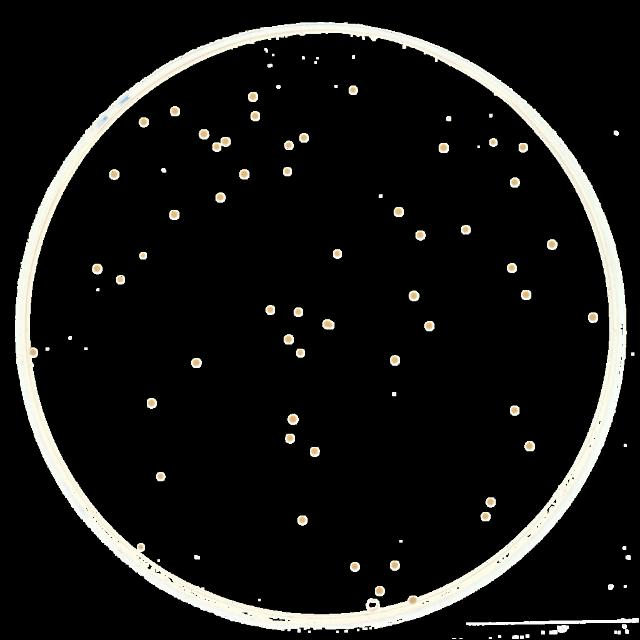colony: (298, 132, 310, 144), (324, 318, 336, 330), (394, 207, 406, 219), (288, 414, 300, 426), (524, 441, 536, 452), (147, 396, 157, 409), (169, 208, 179, 220), (239, 168, 249, 180), (140, 118, 152, 128), (333, 249, 345, 259), (411, 292, 421, 304), (507, 262, 517, 274), (522, 289, 532, 301), (588, 312, 598, 324), (486, 496, 496, 508), (350, 562, 362, 572), (426, 319, 434, 333), (250, 111, 260, 122), (310, 447, 320, 458), (110, 170, 120, 180), (200, 130, 210, 140), (192, 358, 202, 368), (390, 354, 400, 364), (248, 90, 258, 100), (510, 178, 520, 188), (547, 240, 557, 250), (510, 406, 520, 416), (480, 511, 490, 521), (390, 560, 400, 570), (298, 515, 308, 525), (408, 596, 418, 606), (220, 139, 232, 147), (284, 166, 292, 178), (266, 304, 274, 316), (157, 471, 166, 481), (286, 432, 294, 443), (116, 276, 124, 286), (216, 192, 224, 202), (286, 140, 294, 150), (294, 308, 304, 316), (284, 334, 292, 344), (416, 230, 424, 240), (349, 85, 359, 93), (439, 144, 449, 152), (518, 144, 528, 152), (376, 586, 384, 596), (138, 542, 146, 552), (172, 109, 180, 118), (29, 347, 36, 357), (462, 226, 470, 234), (489, 138, 496, 146), (94, 264, 100, 272), (140, 252, 148, 258), (213, 144, 221, 150), (446, 116, 452, 122), (298, 349, 302, 356)
